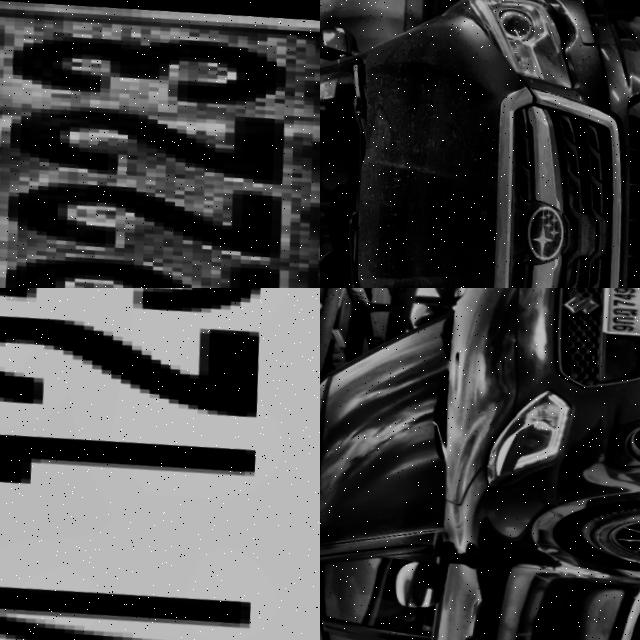license-plate: (0, 288, 320, 640), (0, 0, 320, 288), (597, 288, 640, 330)
